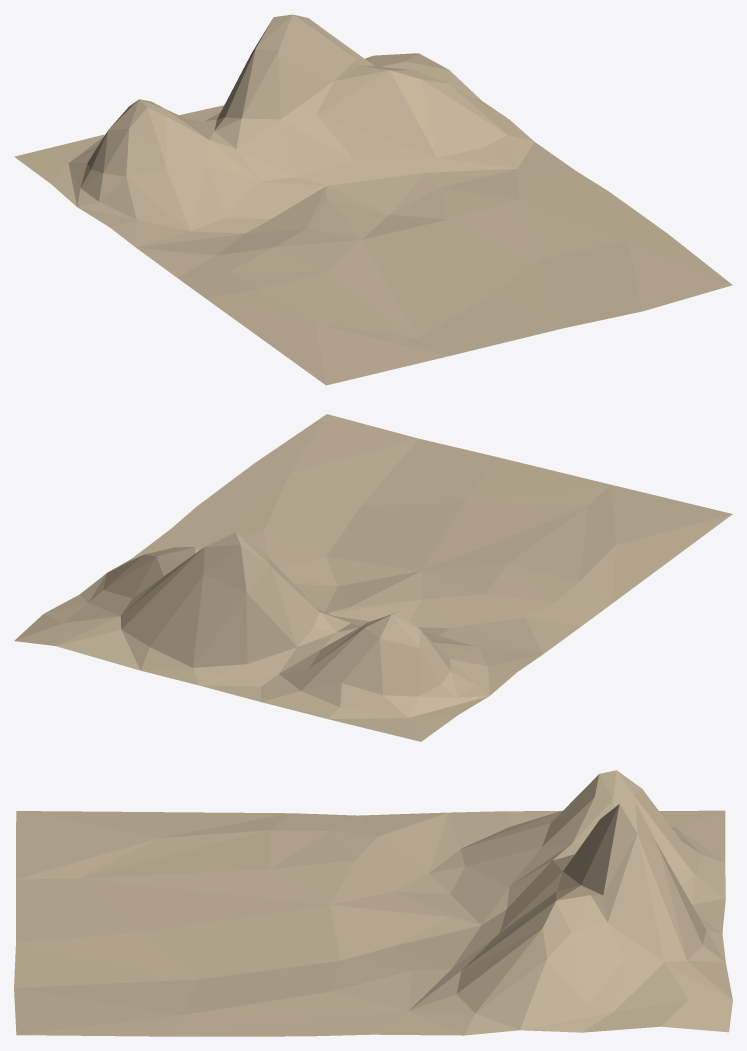
The model's file is Low Poly Mountain.fbx.
3 renders of one model, top to bottom at view 1: azimuth 30°, elevation 25°; view 2: azimuth 150°, elevation 25°; view 3: azimuth 270°, elevation 25°, orthographic. The views are drawn at different scales.
Visible parts, largest first — view 1: Landscape; view 2: Landscape; view 3: Landscape.
Part boxes in pixels (x1,y1,x2,y2): Landscape: (14,14,732,385); Landscape: (14,414,732,741); Landscape: (14,770,732,1036).
Size of the model in its own units: 6108 by 1791 by 8112.
